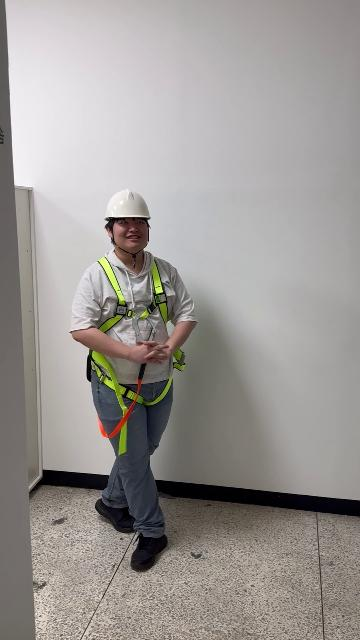helmet_worn: (103, 187, 152, 220)
shoe_not_worn: (95, 496, 136, 532), (130, 532, 167, 571)
vest_worn: (83, 256, 187, 444)
